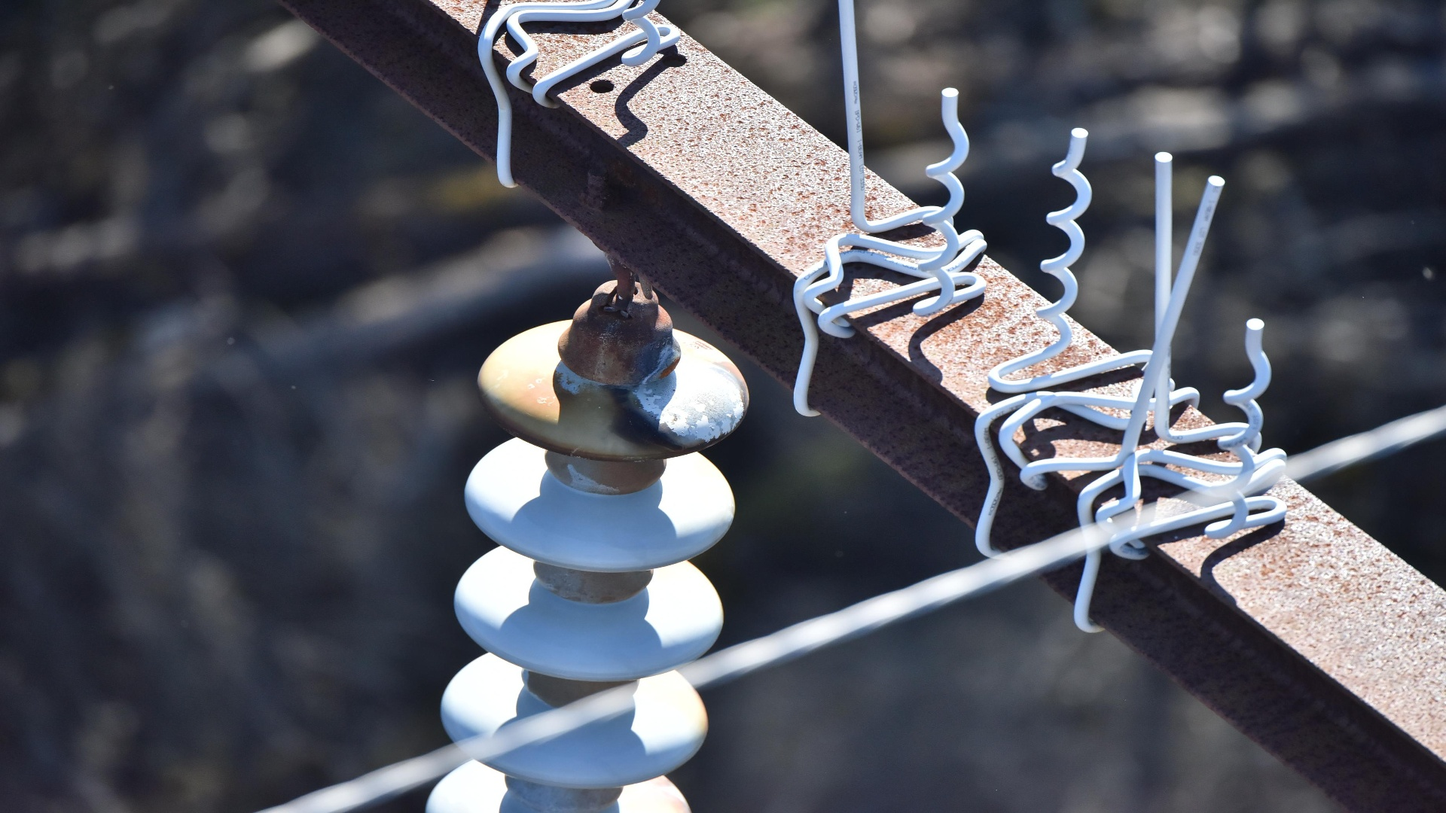insulator: (419, 319, 755, 813)
